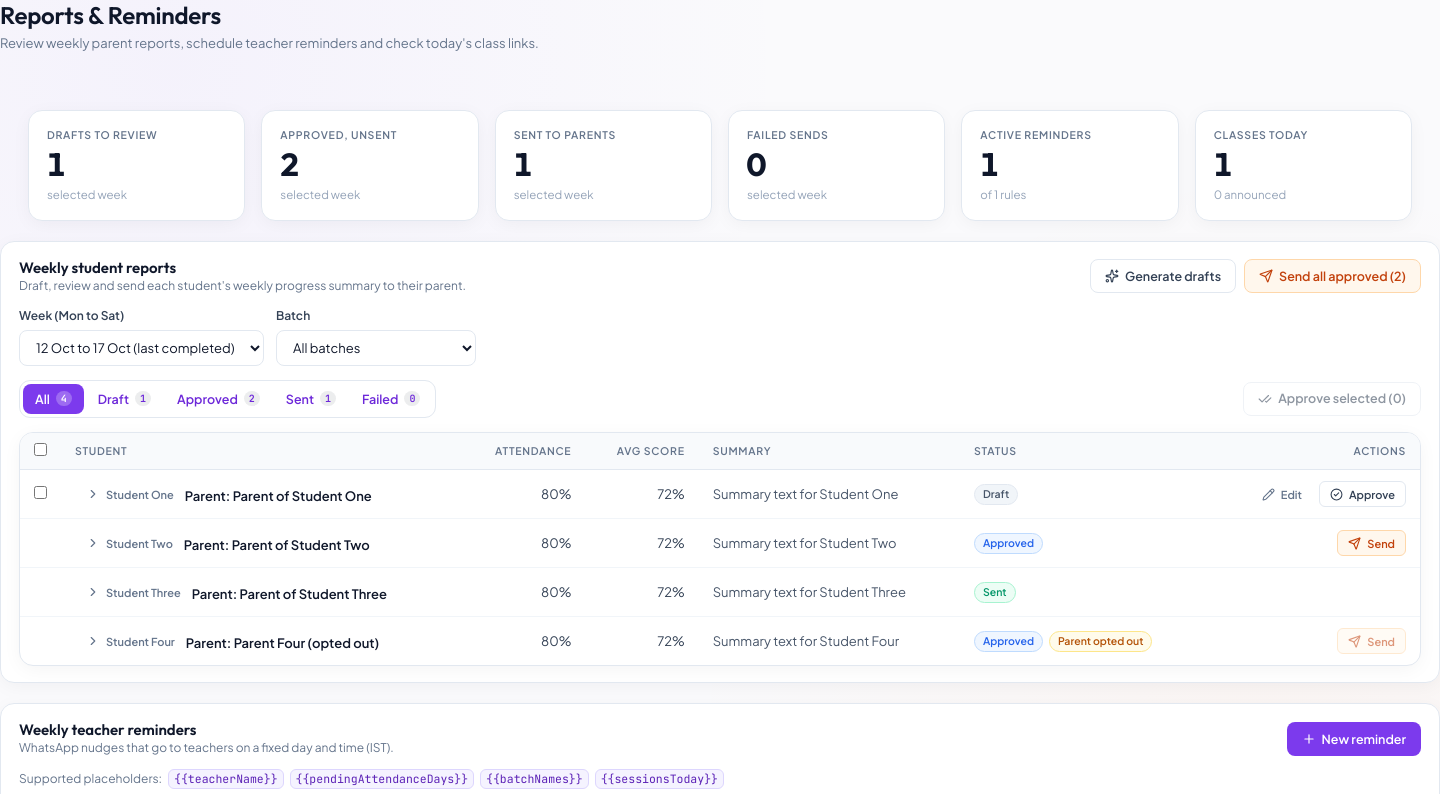
Test: ReportsView: weekly reports › expands a row and edits a draft summary
The width and height of the screenshot is (1440, 794).
Expected: the button "Student One" is shown, [75,481,185,507]
Click the button with aria-label "Edit summary for Student One": (1282, 494) [1251,481,1313,507]
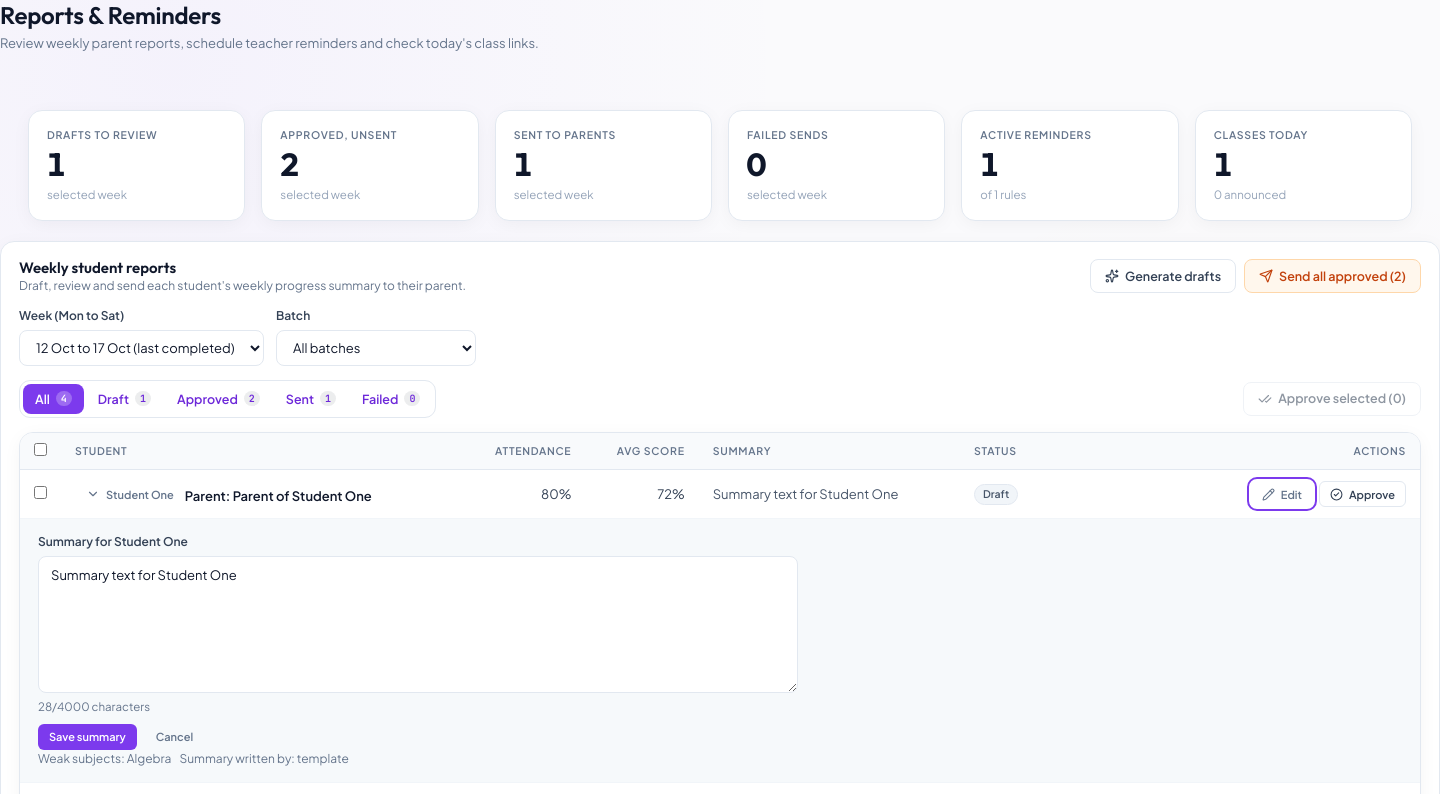
Replace the text in the text box labelled "Summary for Student One" with "New words": (418, 625) [38,556,798,693]
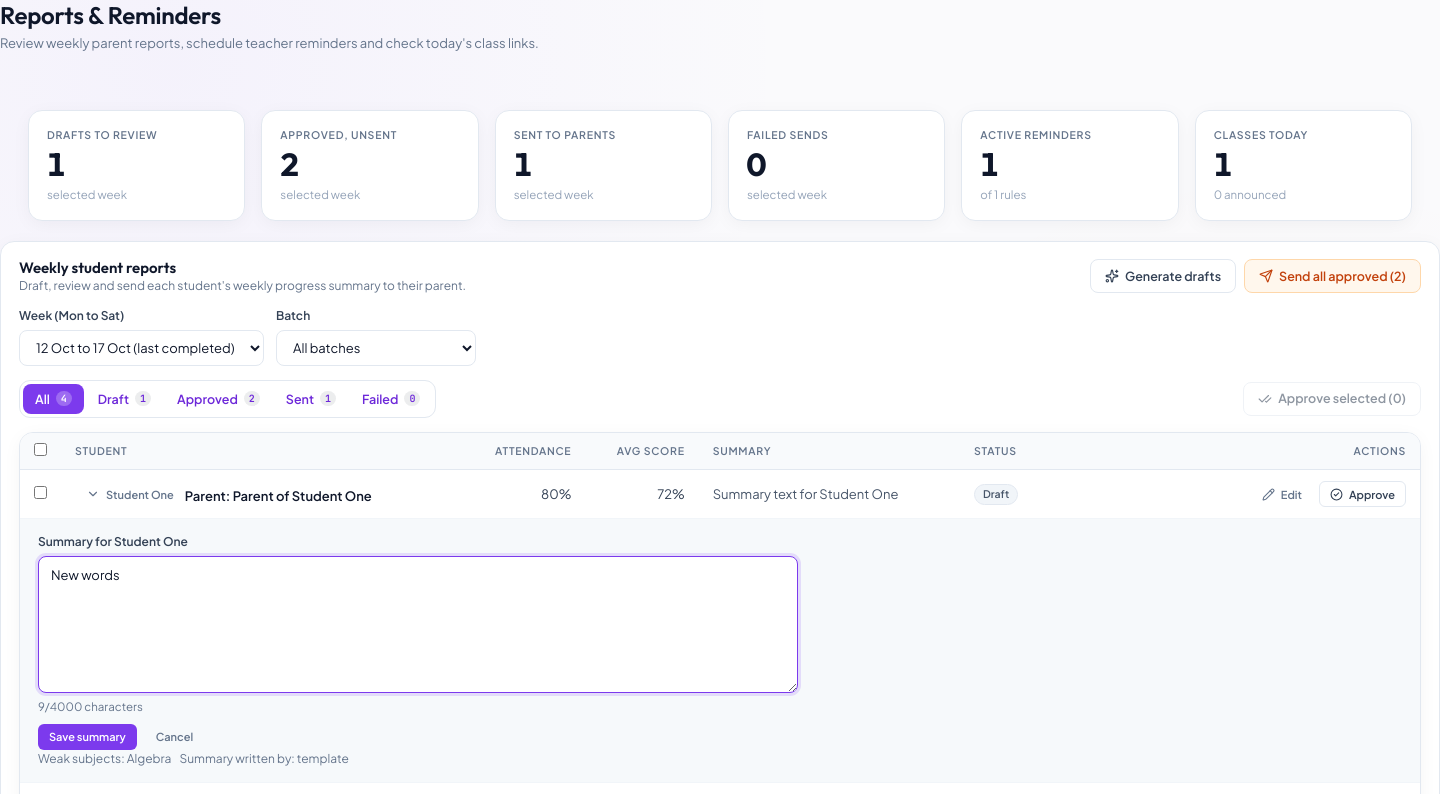
Click the button "Save summary": (87, 736) [38,724,137,750]
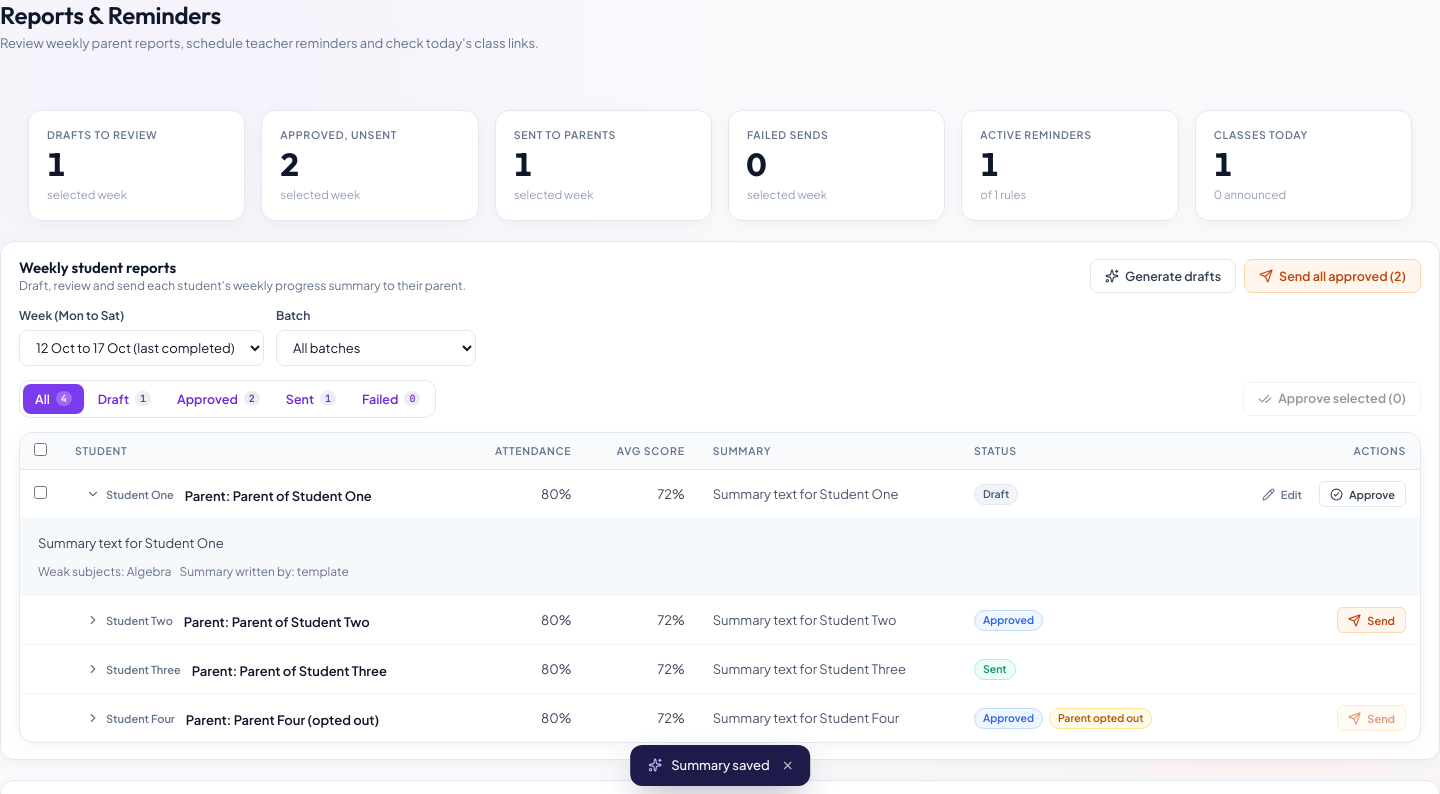
Now the text "Summary saved" is shown, box [630,744,810,786]
